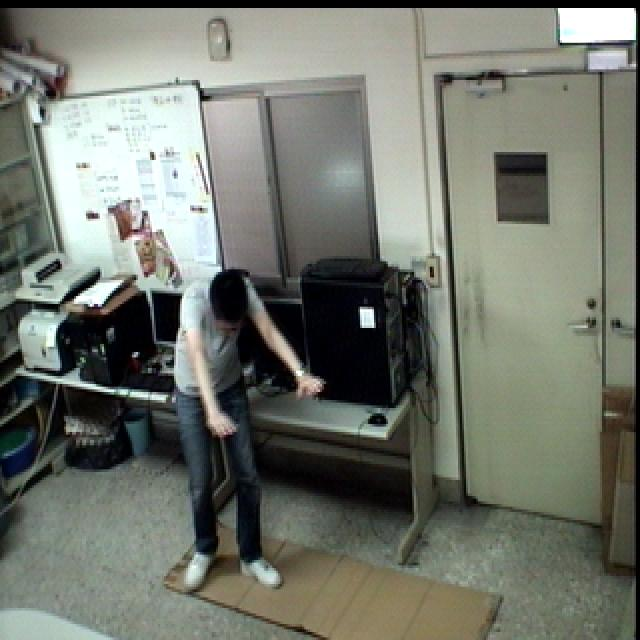bend: (162, 266, 332, 598)
